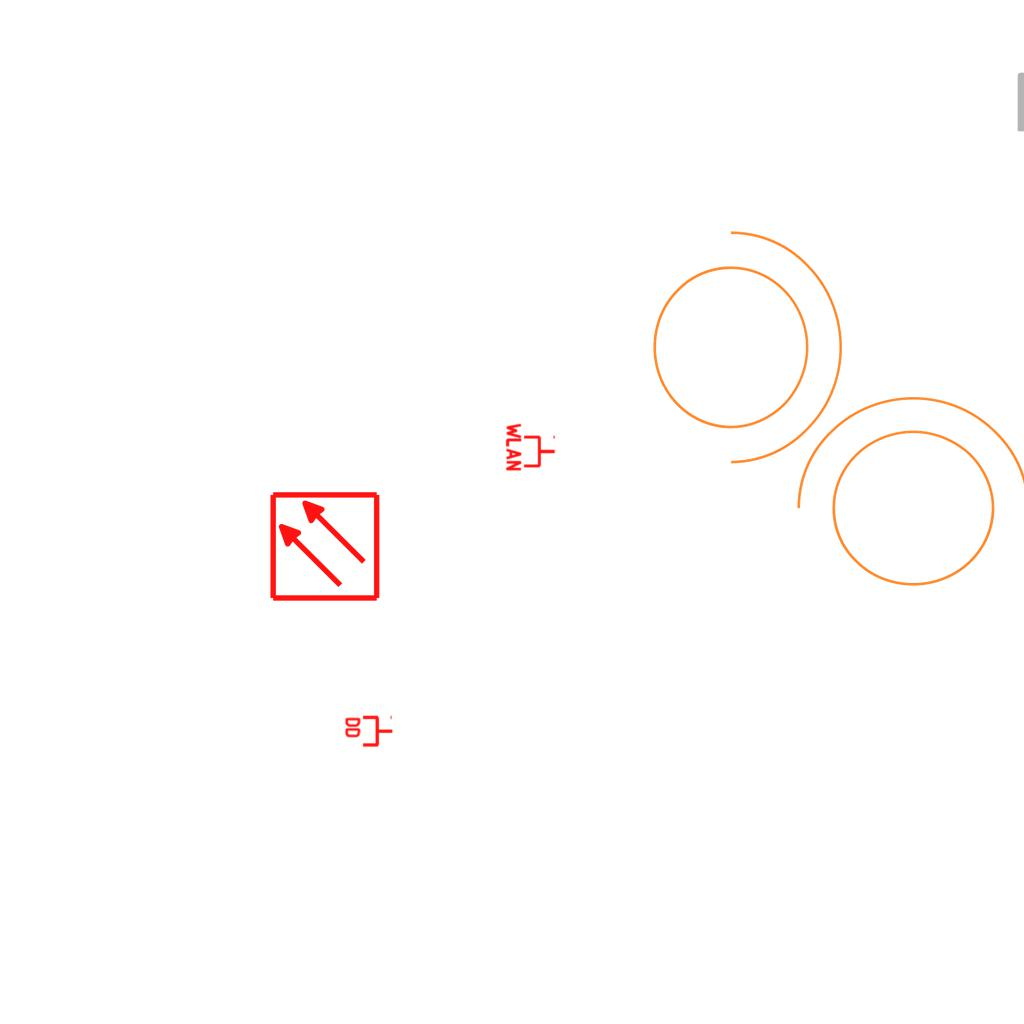Datenanschluss_zweifach: (343, 715, 394, 749)
RMO_Rauchmelder_optischer: (268, 490, 381, 603)
Scheinwerfer_fuer_Alarmbeleuchtung: (628, 209, 853, 473), (775, 386, 1024, 611)
WLAN: (505, 421, 557, 473)
